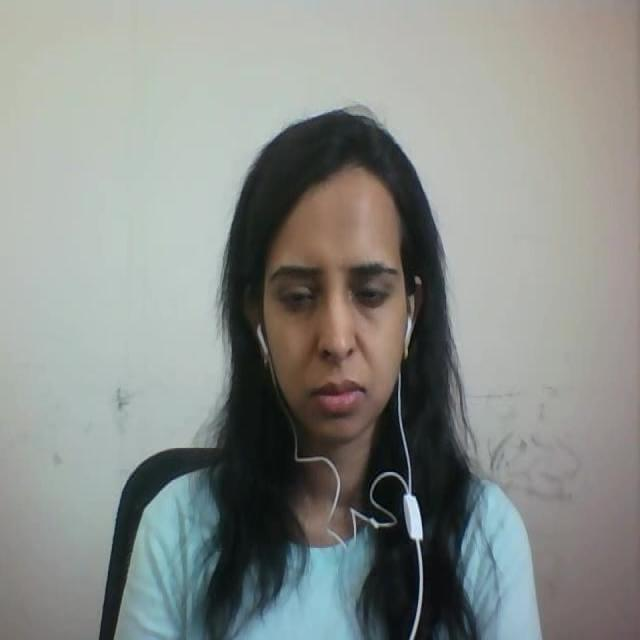Bored: (198, 102, 470, 476)
